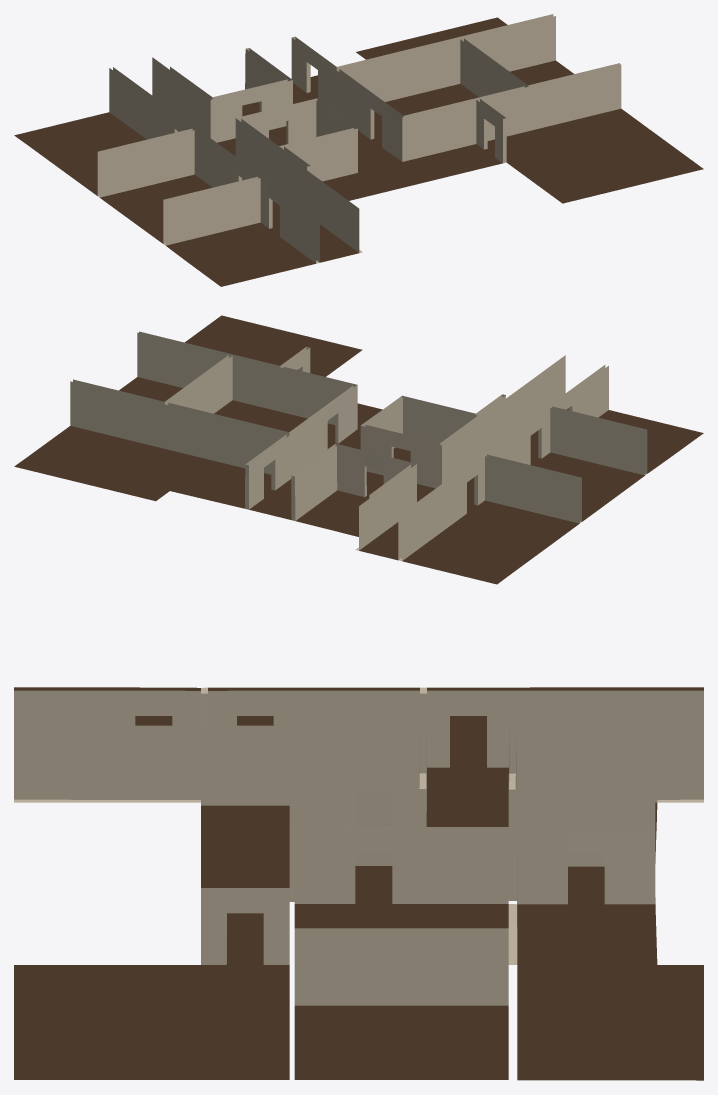
File: Main_block_Interior_FL1 2.fbx
The picture shows the model from 3 angles, top to bottom: view 1: azimuth 30°, elevation 25°; view 2: azimuth 150°, elevation 25°; view 3: azimuth 270°, elevation 25°; orthographic projection. The views are drawn at different scales.
Parts seen in each view (by area): view 1: FL1.Interior.LP; view 2: FL1.Interior.LP; view 3: FL1.Interior.LP.
Boxes of the visible parts, x1,y1,x2,y2 form: FL1.Interior.LP: (14, 14, 703, 286); FL1.Interior.LP: (14, 315, 703, 584); FL1.Interior.LP: (14, 687, 703, 1080).
Size of the model in its own units: 39.82 by 3.5 by 29.53.
